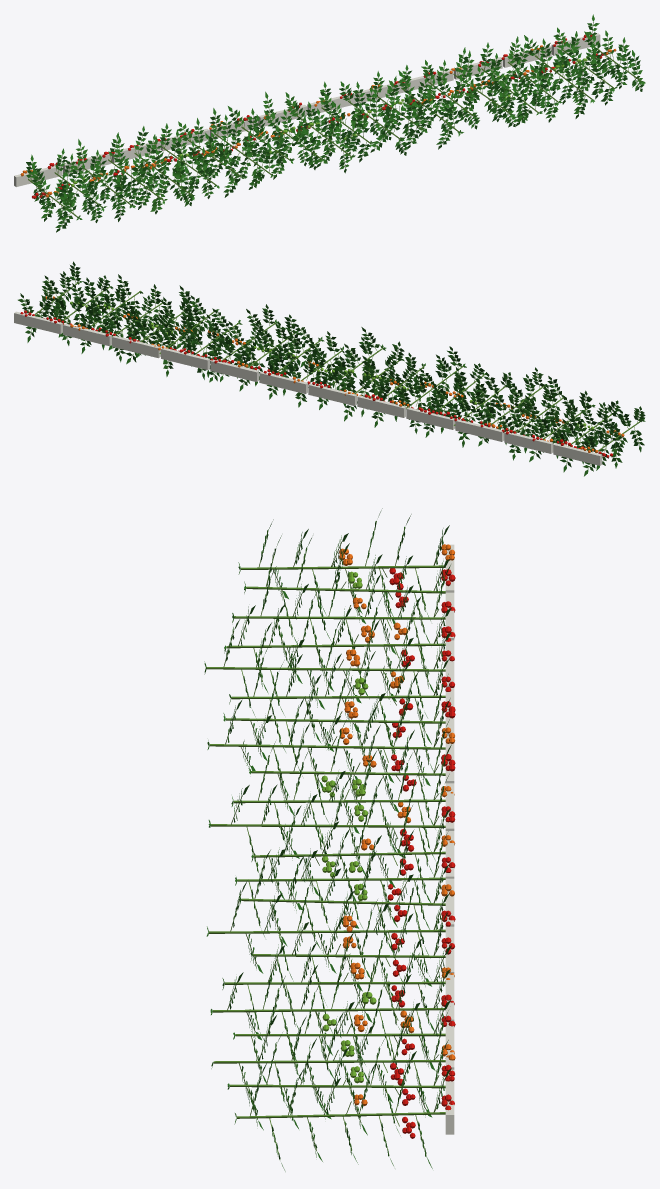
File: row19.obj
The picture shows the model from 3 angles, top to bottom: view 1: azimuth 30°, elevation 25°; view 2: azimuth 150°, elevation 25°; view 3: azimuth 270°, elevation 25°; orthographic projection. The views are drawn at different scales.
Parts seen in each view (by area): view 1: row19; view 2: row19; view 3: row19.
Part boxes in pixels (x1,y1,x2,y2): row19: [14, 14, 645, 232]; row19: [14, 261, 645, 476]; row19: [204, 508, 455, 1171].
Bounding box in the file's own units: 12.55 × 1.15 × 2.32.
